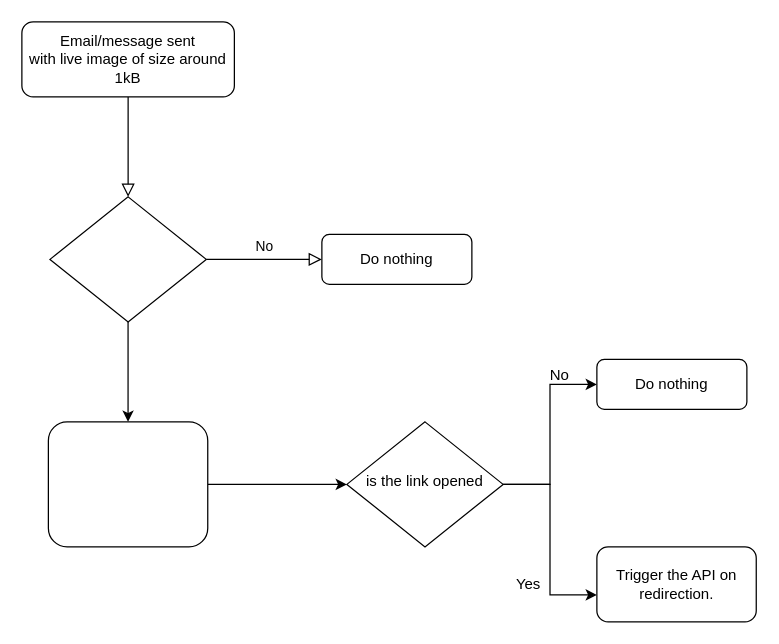
This 779x644 diagram has some shape labels left out. The box of each missing label's shape, as (x1, y1, x2, y2) in pixels:
is the mail/chat opened: (49, 196, 206, 322)
Trigger the API with the specific details of the message/mail to log events.: (47, 421, 208, 547)
